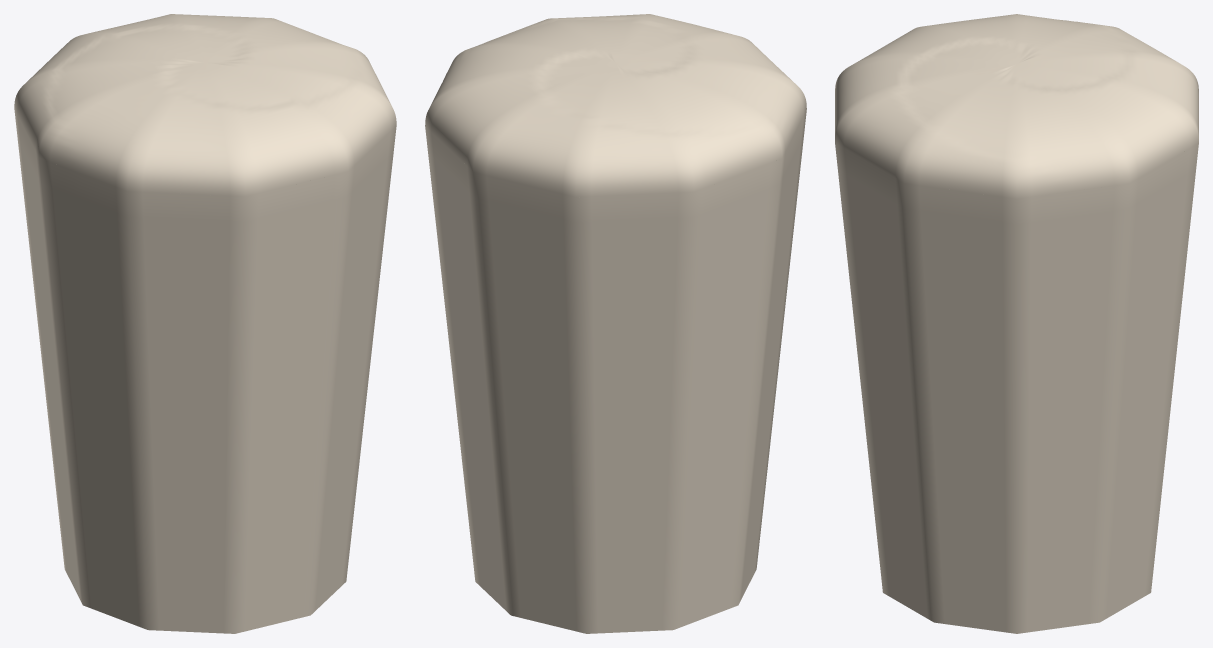
The model's file is base-shake-400-ml.glb.
3 renders of one model, left to right at view 1: azimuth 30°, elevation 25°; view 2: azimuth 150°, elevation 25°; view 3: azimuth 270°, elevation 25°, orthographic.
Visible parts, largest first — view 1: base-shake-400-ml; view 2: base-shake-400-ml; view 3: base-shake-400-ml.
Part boxes in pixels (x1,y1,x2,y2): base-shake-400-ml: (14, 14, 396, 633); base-shake-400-ml: (425, 14, 806, 633); base-shake-400-ml: (835, 14, 1198, 633).
Bounding box in the file's own units: 0.0796 × 0.1173 × 0.0757.
